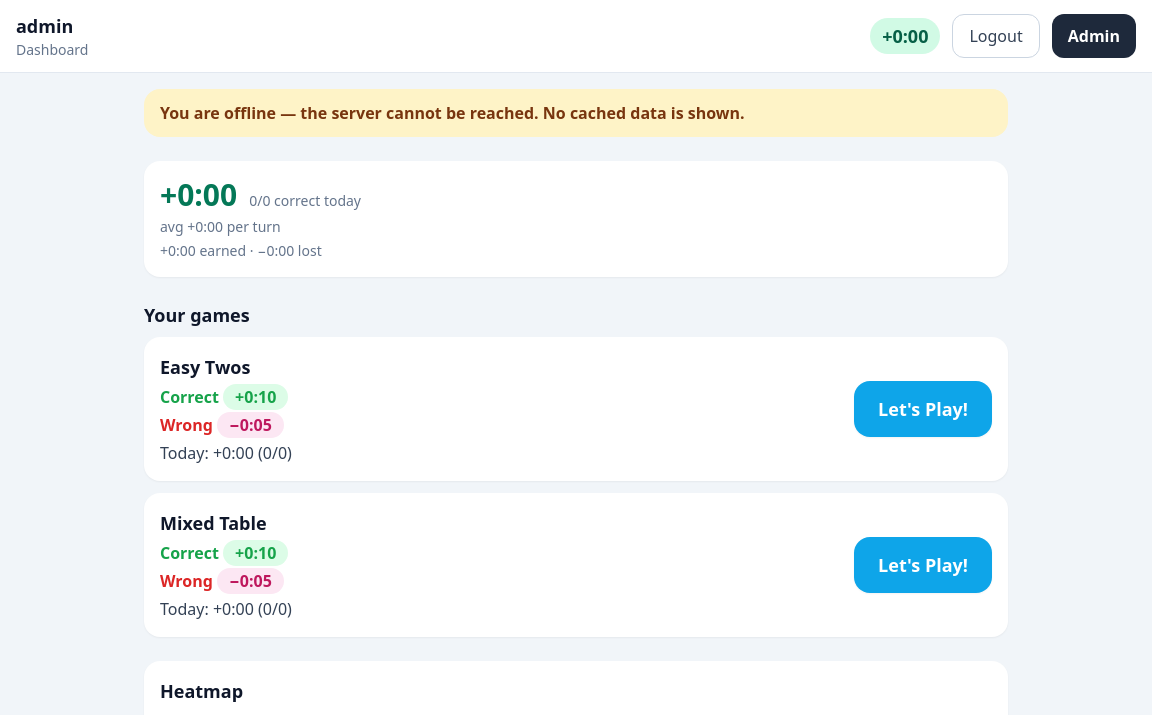
Test case: T11 — dashboard › case 6: an admin gets an Admin entry to /admin; a child does not
Expected: the text "admin" is shown, 16,14 -> 73,38
Click the button with test id "header-admin": (1094, 36) 1052,14 -> 1136,58
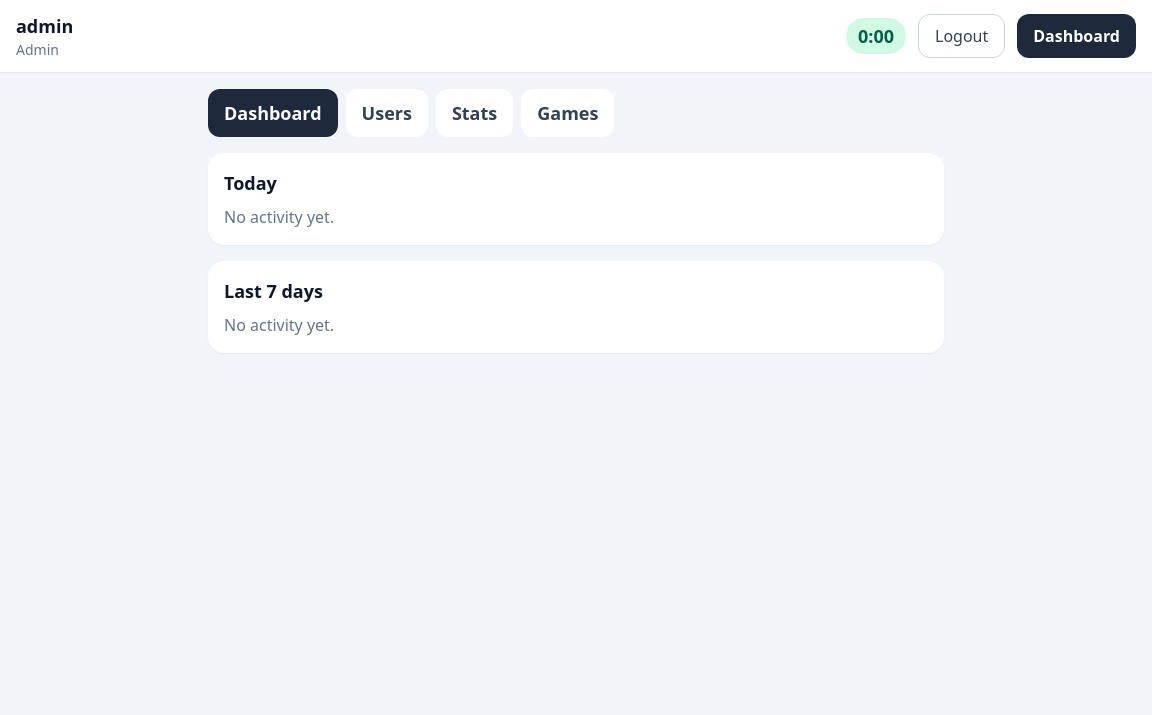
Now the navigation bar with test id "admin-tabs" is shown, box 208,89 -> 614,137
Now the button with test id "header-admin" reads "Dashboard", box 1017,14 -> 1136,58
